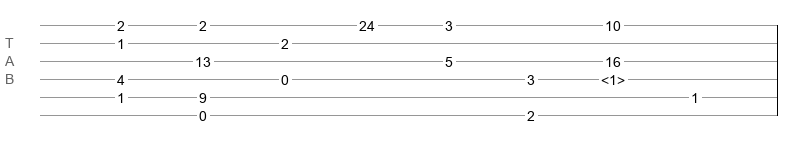0: (199, 108, 207, 118), (281, 72, 289, 82)
1: (117, 36, 125, 46), (117, 90, 125, 100), (691, 90, 699, 100)
10: (605, 18, 621, 28)
13: (195, 54, 211, 64)
16: (605, 54, 621, 64)
2: (117, 18, 125, 28), (199, 18, 207, 28), (281, 36, 289, 46), (527, 108, 535, 118)
24: (359, 18, 375, 28)
3: (445, 18, 453, 28), (527, 72, 535, 82)
4: (117, 72, 125, 82)
5: (445, 54, 453, 64)
9: (199, 90, 207, 100)
harmonic: (601, 72, 625, 82)
